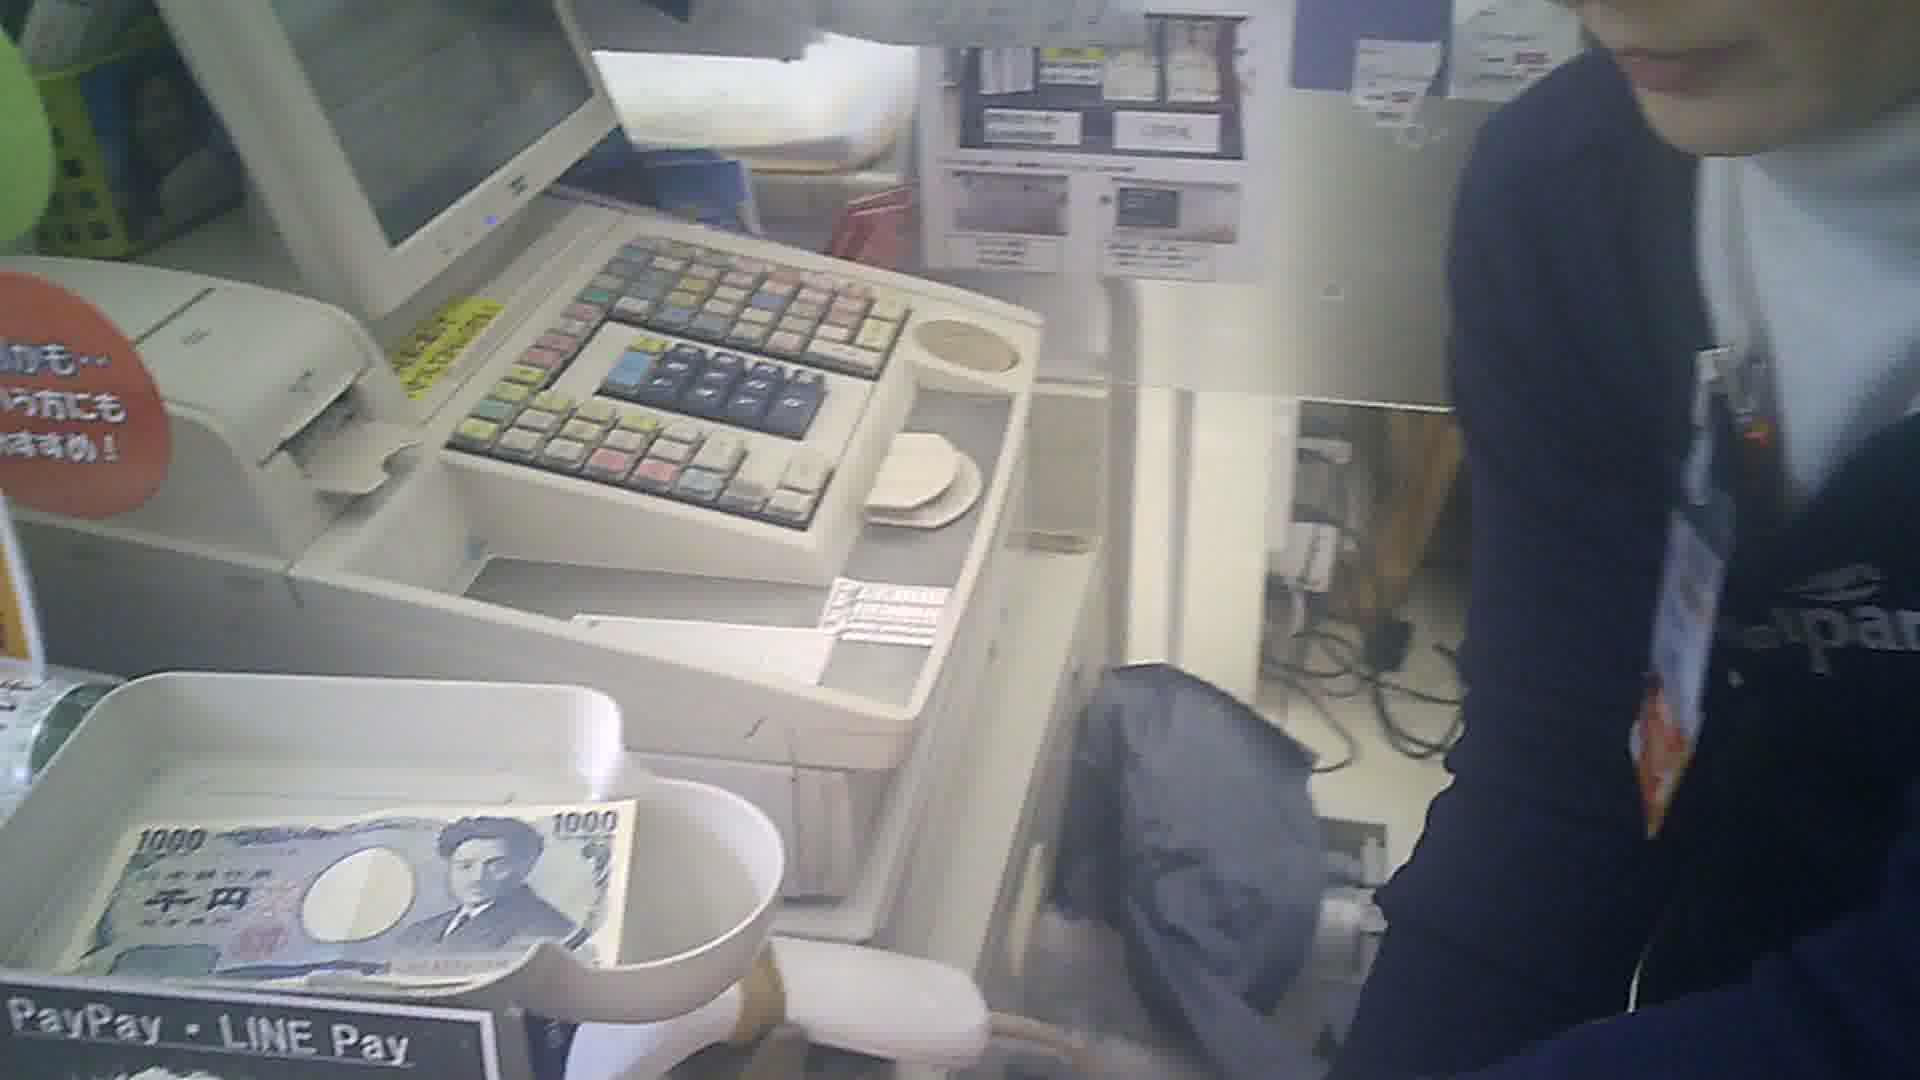1,000 Yen: (65, 793, 674, 990)
